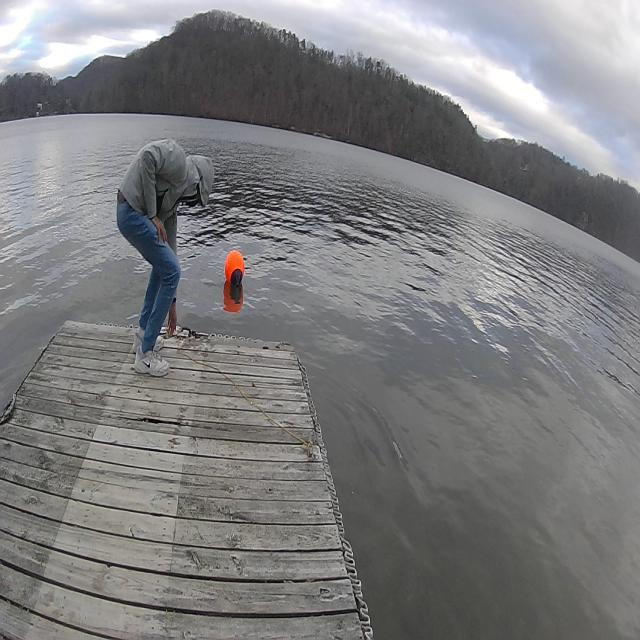Buoy: (223, 246, 246, 292)
